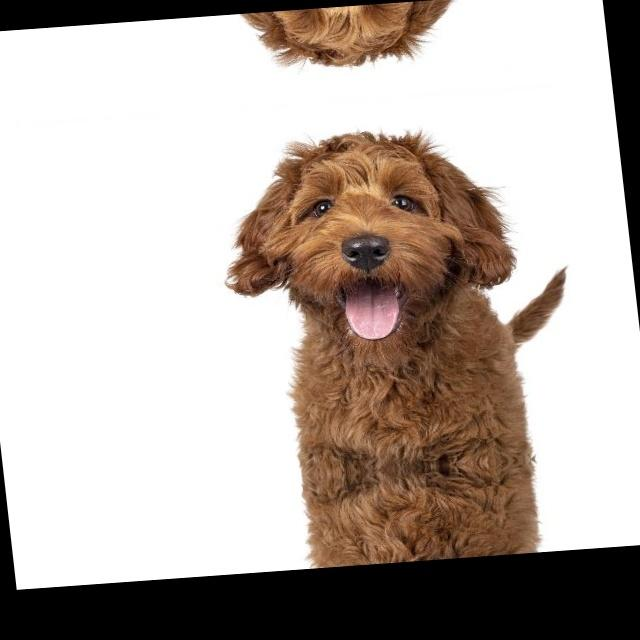dog: (210, 112, 540, 355), (197, 0, 510, 84)
